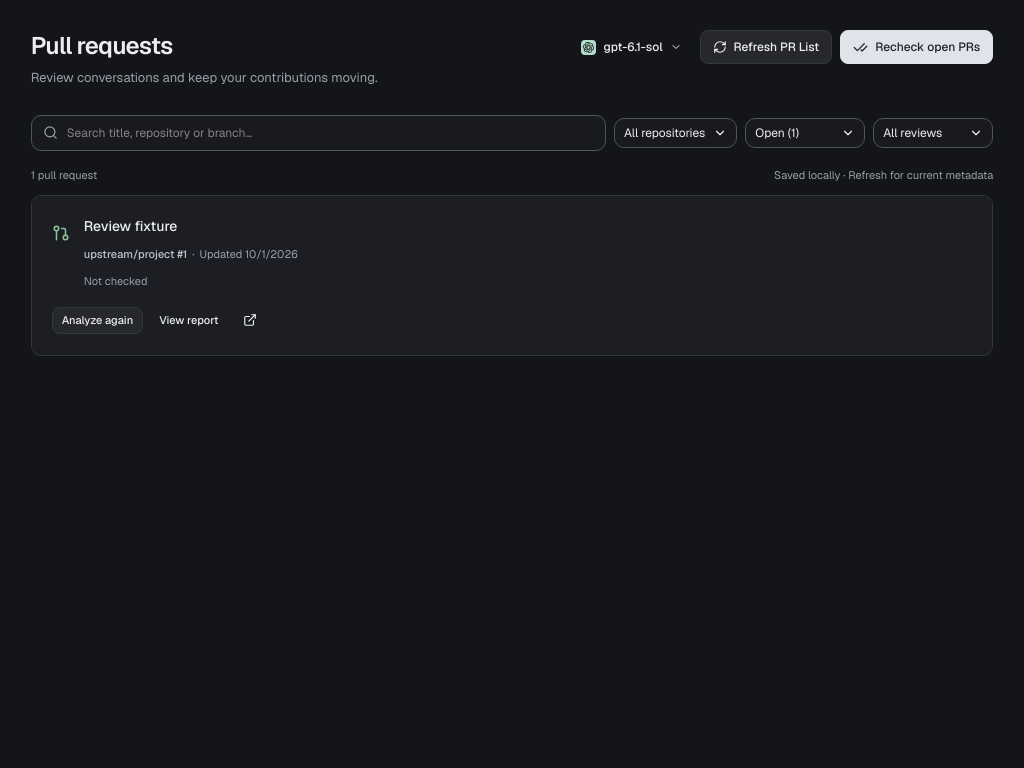
Test: launches one explicit analysis and reads local saved details when opening its report
The image size is (1024, 768).
Click the button "Analyze again" at (97, 320), box [52,307,143,334]
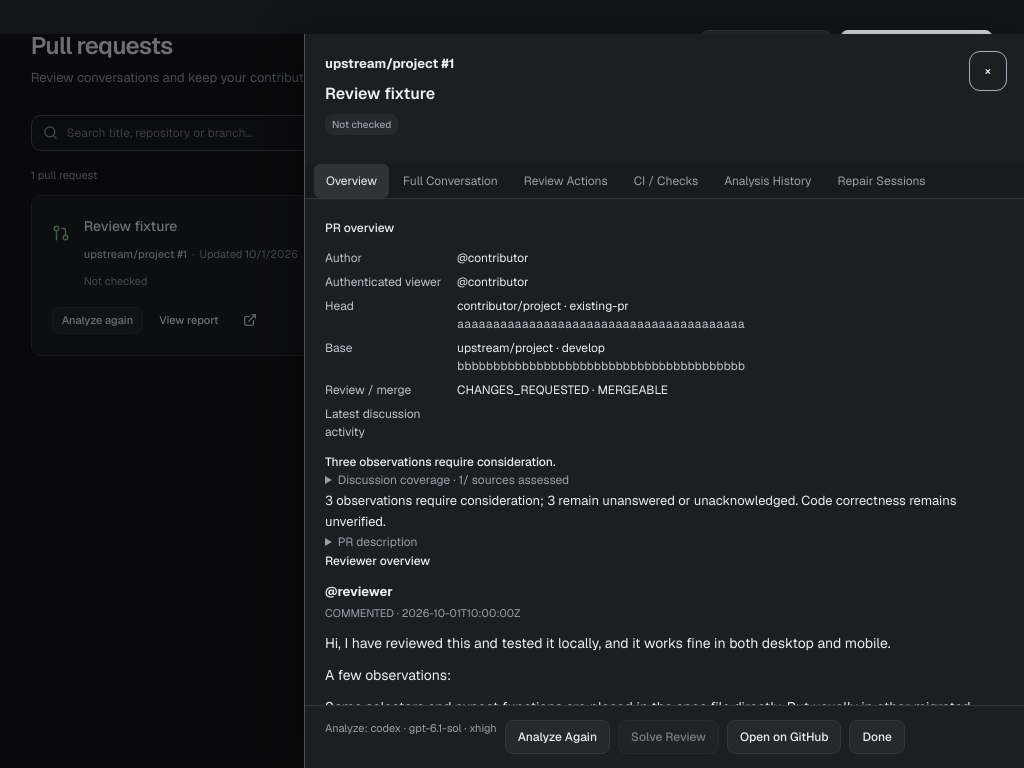
Expected: the dialog named "Pull request details" is shown
Expected: the button "Solve Review" is disabled, [618,720,719,754]
